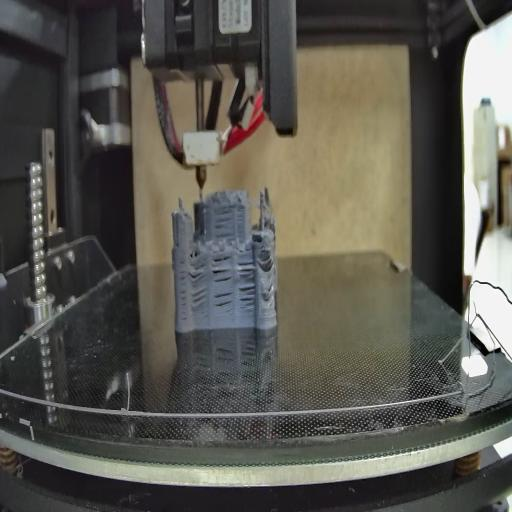cracks: (238, 258, 257, 313), (187, 257, 211, 285), (212, 254, 234, 282), (215, 208, 234, 238), (179, 256, 187, 323), (214, 289, 235, 312), (190, 286, 210, 308), (262, 250, 274, 272), (266, 280, 274, 296)
